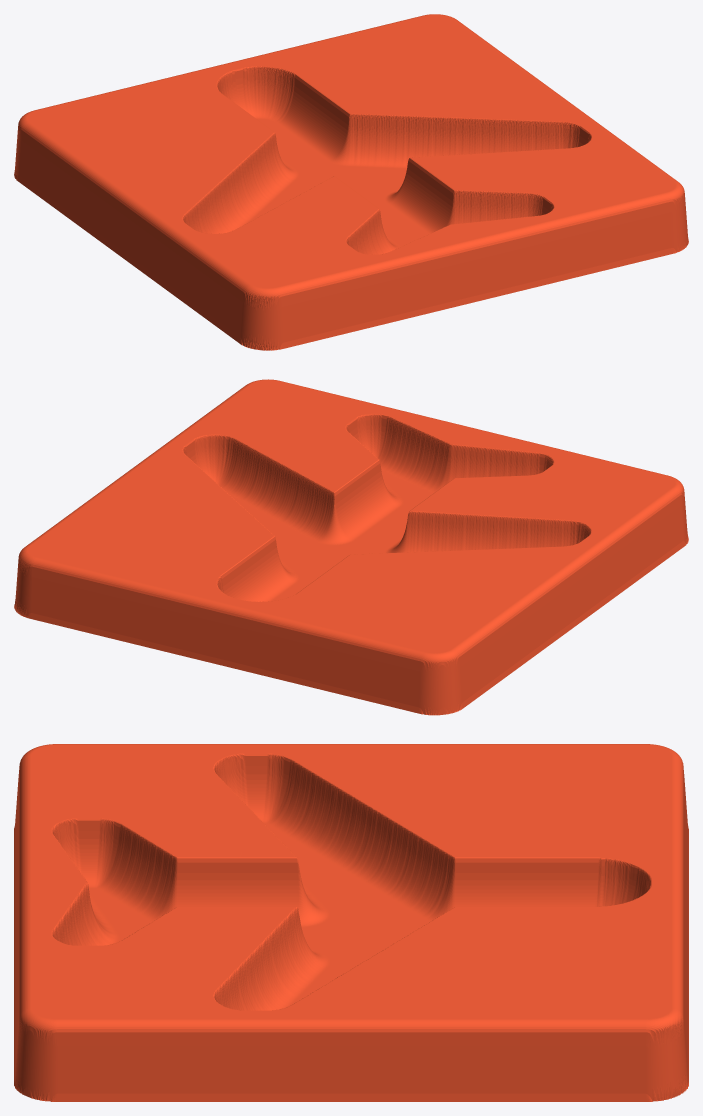
Rendered from mold.glb.
3 views of the same model, one above another, from view 1: azimuth 30°, elevation 25°; view 2: azimuth 150°, elevation 25°; view 3: azimuth 270°, elevation 25° (orthographic). The views are drawn at different scales.
Parts seen in each view (by area): view 1: geometry_0; view 2: geometry_0; view 3: geometry_0.
Part boxes in pixels (left/top/right/bottom): geometry_0: left=14, top=14, right=688, bottom=350; geometry_0: left=14, top=379, right=688, bottom=715; geometry_0: left=14, top=744, right=688, bottom=1101.
Bounding box in the file's own units: 0.1435 × 0.0175 × 0.1418.
